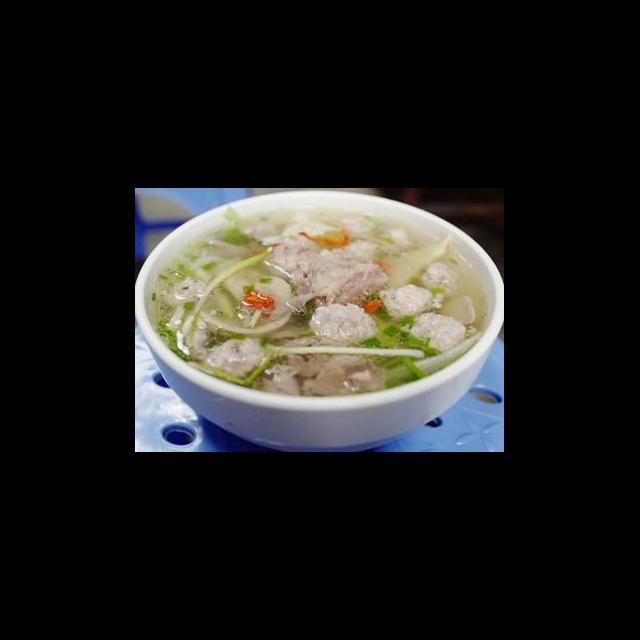vien moc: (303, 301, 382, 348), (404, 311, 468, 356), (374, 280, 436, 324)
